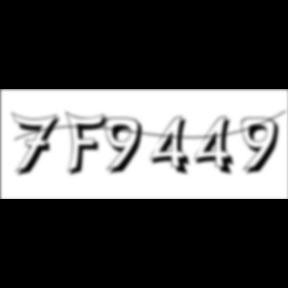4: (150, 115, 196, 179), (194, 115, 240, 179)
7: (12, 111, 66, 179)
9: (104, 117, 150, 177), (242, 117, 286, 177)
F: (65, 110, 113, 178)
